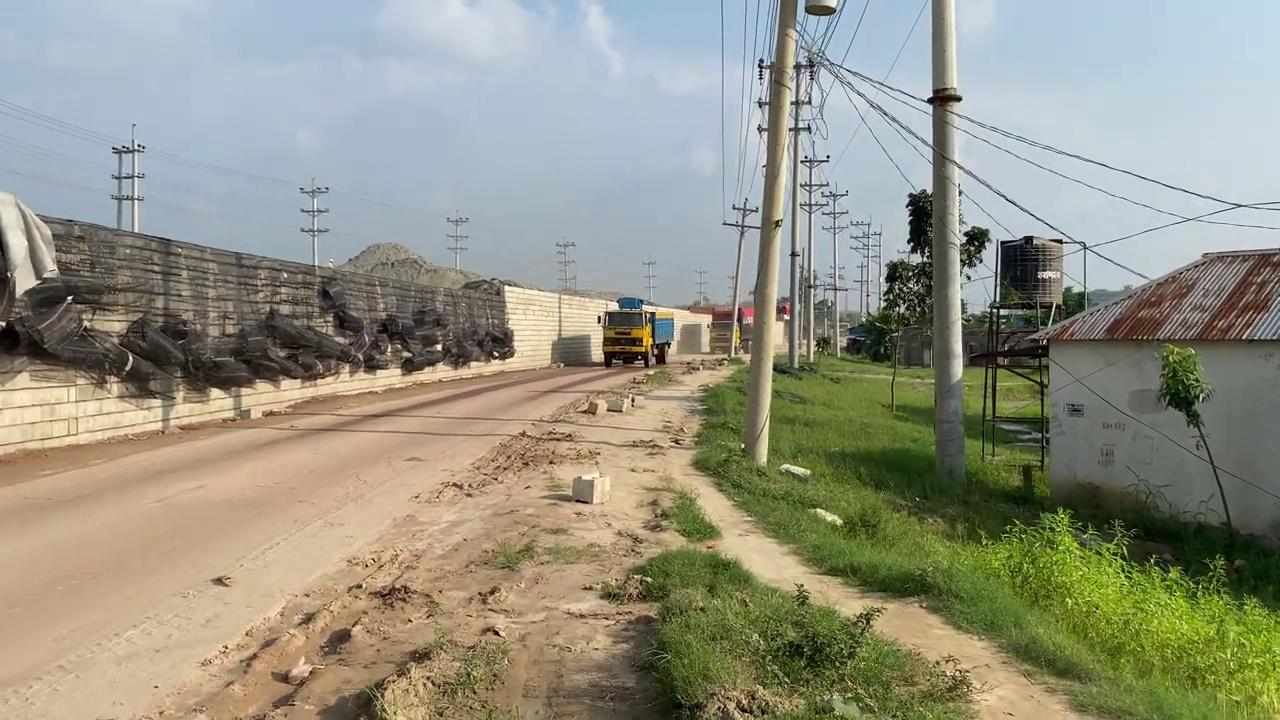Garbage: (0, 191, 516, 393)
Obstacle: (973, 234, 1066, 470), (570, 471, 611, 504)
Pole: (742, 0, 798, 470), (929, 0, 966, 486)
Rickshaw: (430, 358, 1100, 717)
Traffic-sign: (1154, 341, 1237, 546)
Tree: (596, 296, 674, 367), (735, 300, 790, 353)
